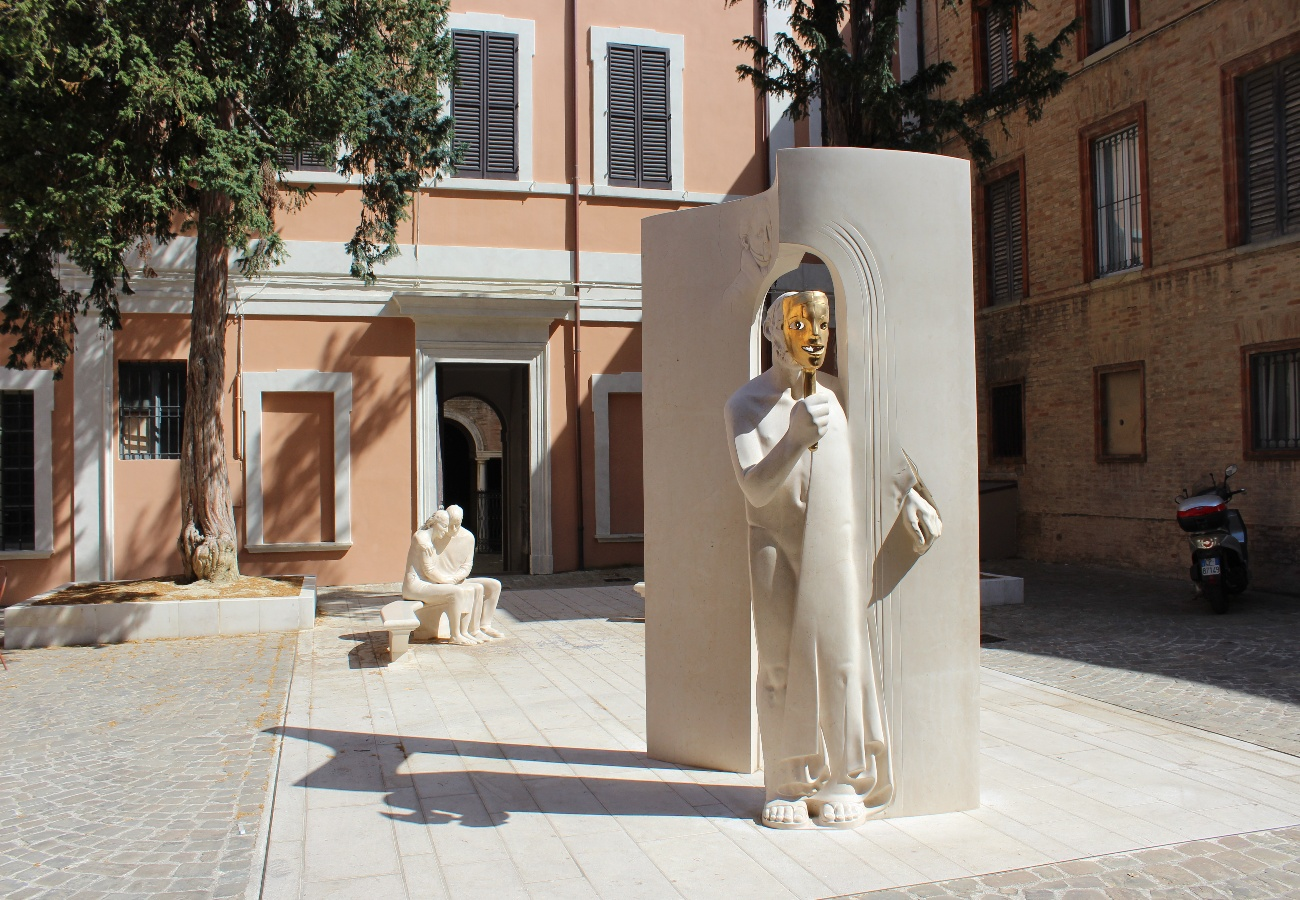Scultura della Memoria: (722, 291, 943, 836)
